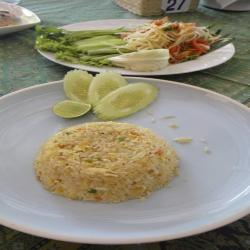rice: (43, 117, 172, 202)
salad: (38, 25, 129, 65)
